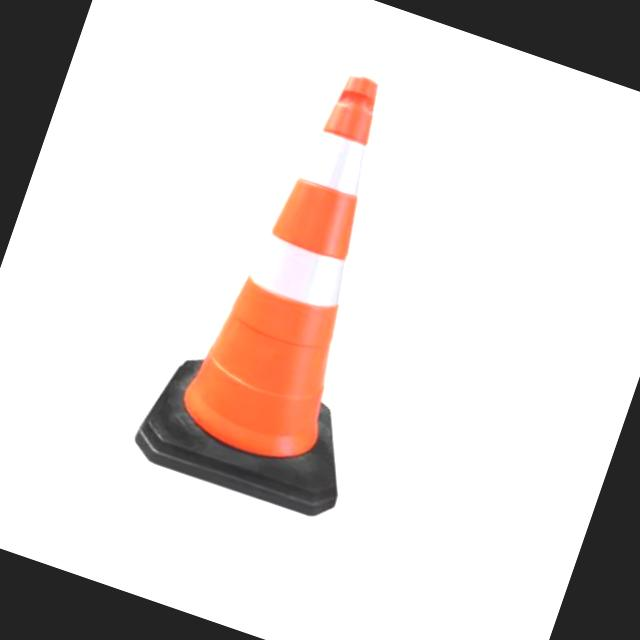cone: (132, 40, 472, 522)
